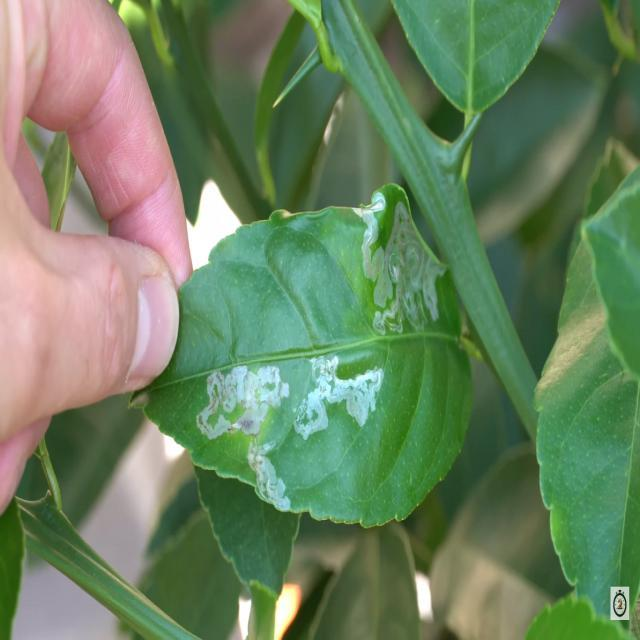Tomato target spot leaf: (138, 180, 474, 527)
